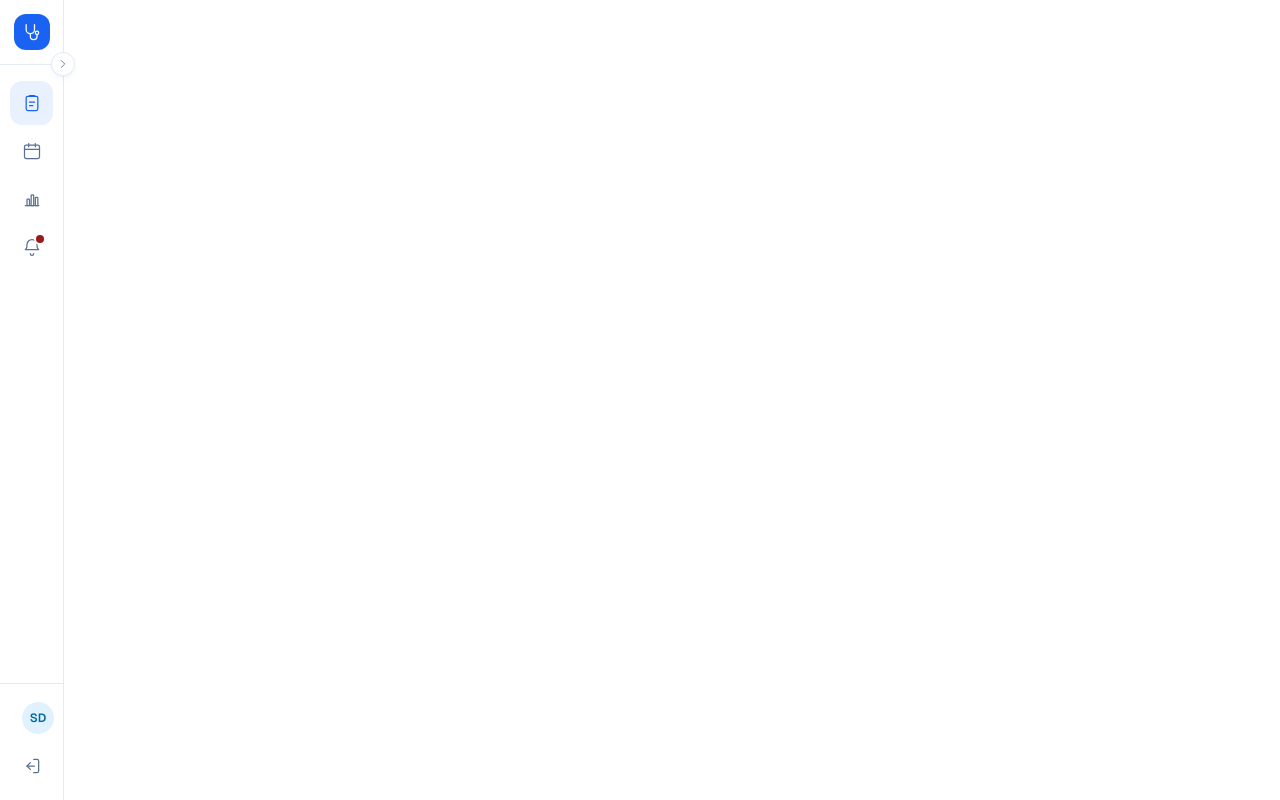
Test: DoctorRail › opens the notifications modal from the rail
The image size is (1280, 800).
Click the 1st button named "Notifications, 3 unread" at (32, 247), box [10, 225, 53, 269]
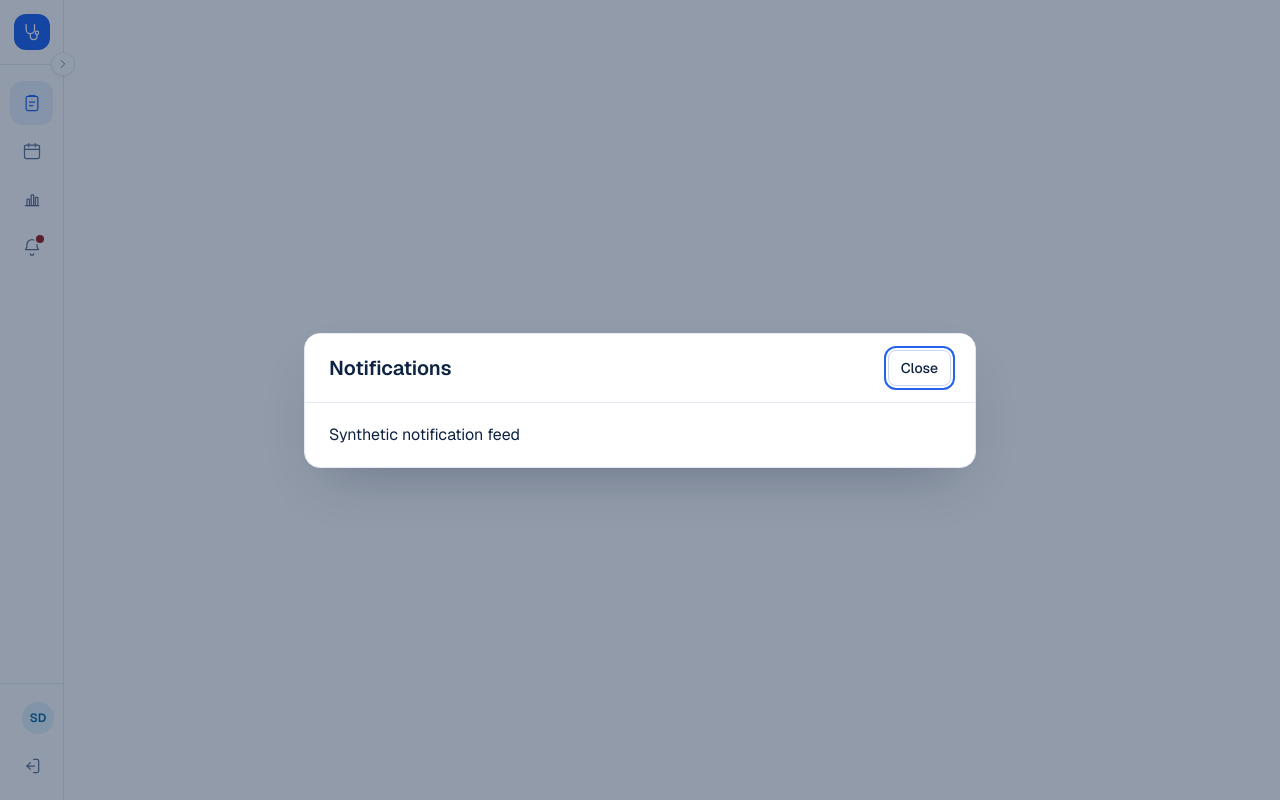
Result: the dialog "Notifications" is shown at [304, 332, 976, 468]
Result: the text "Synthetic notification feed" is shown at [329, 424, 520, 444]
